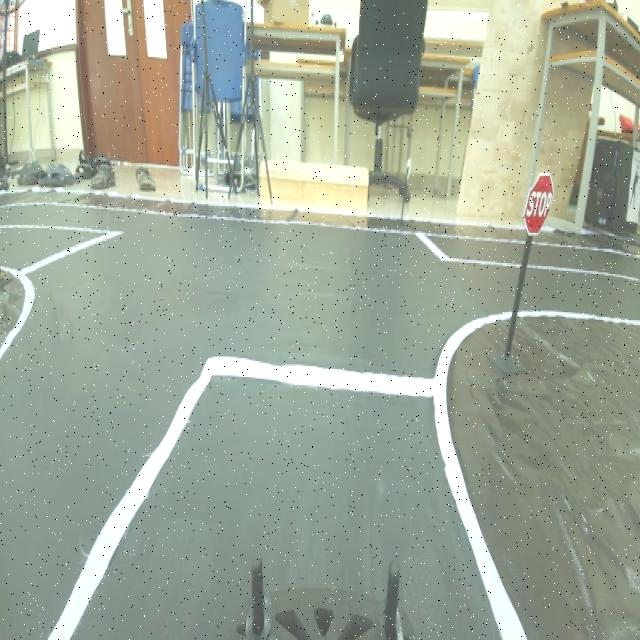stop: (520, 166, 556, 238)
